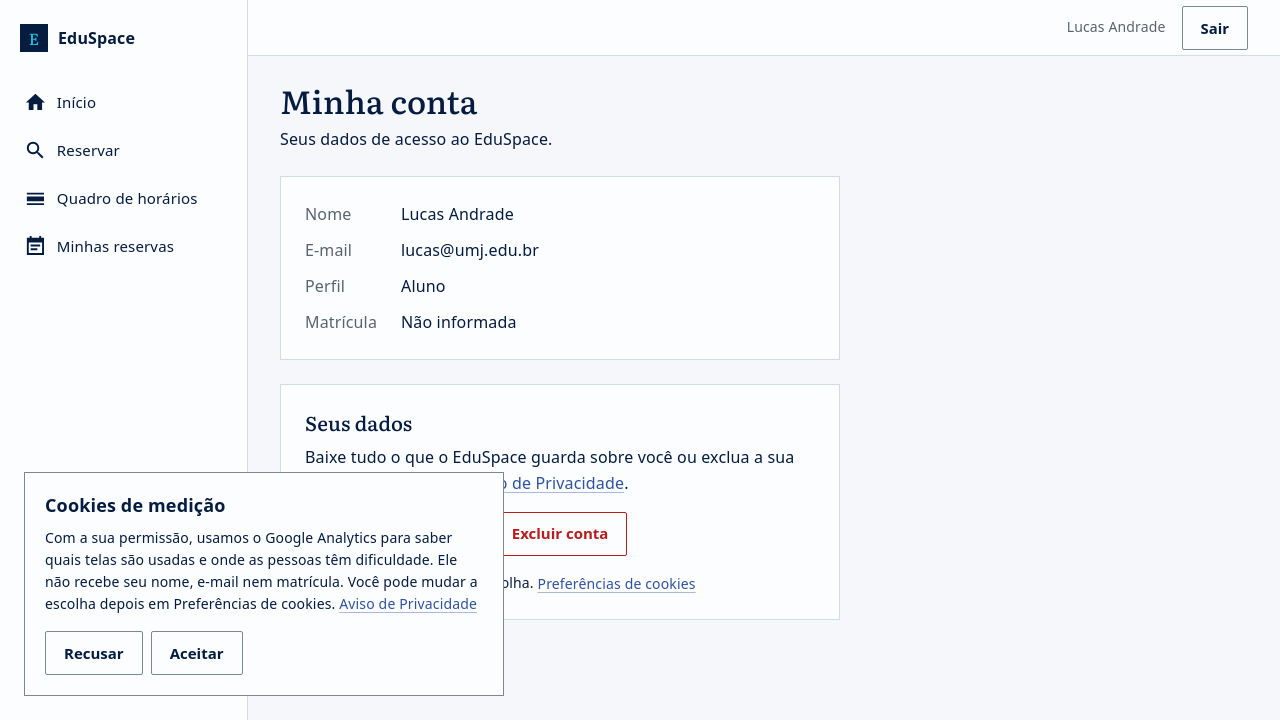
it: my data › marks a wrong password when deleting the account
Step 1. Click the button "Excluir conta" → (560, 534), box [493, 512, 627, 556]
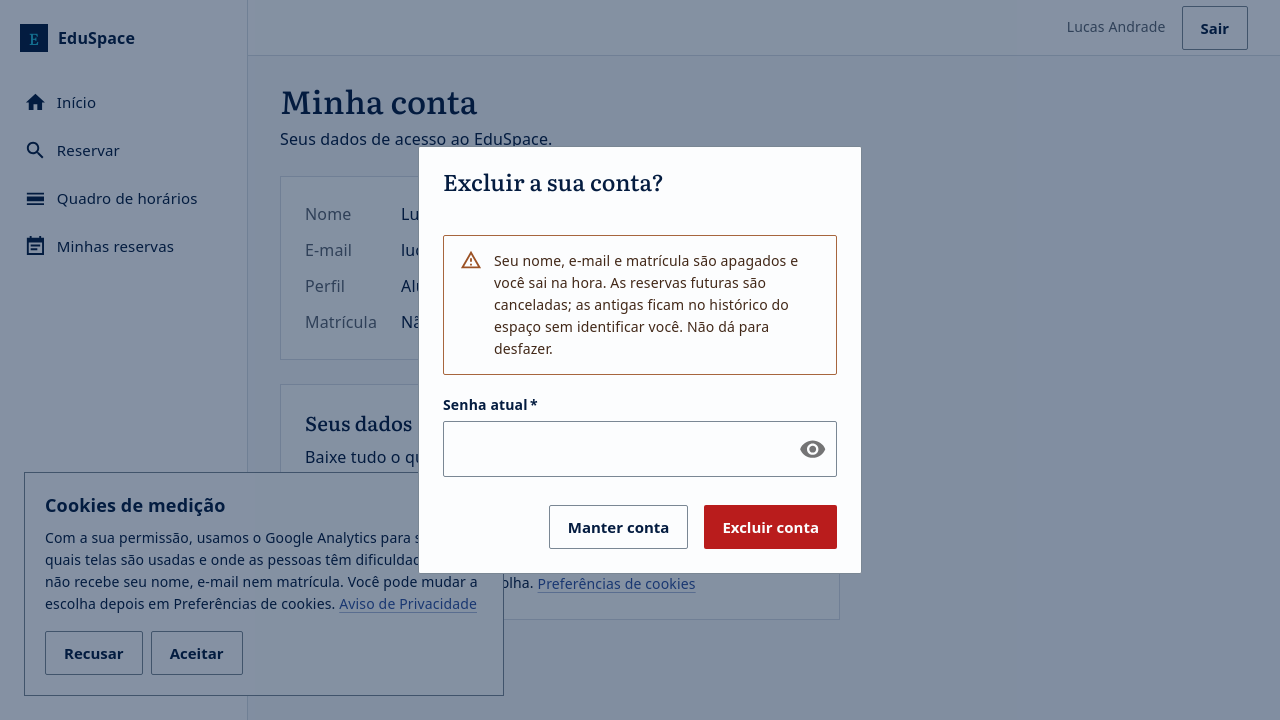
Step 2. Type "Errada123" into the password field labelled "Senha atual *" → (613, 449), box [443, 421, 783, 477]
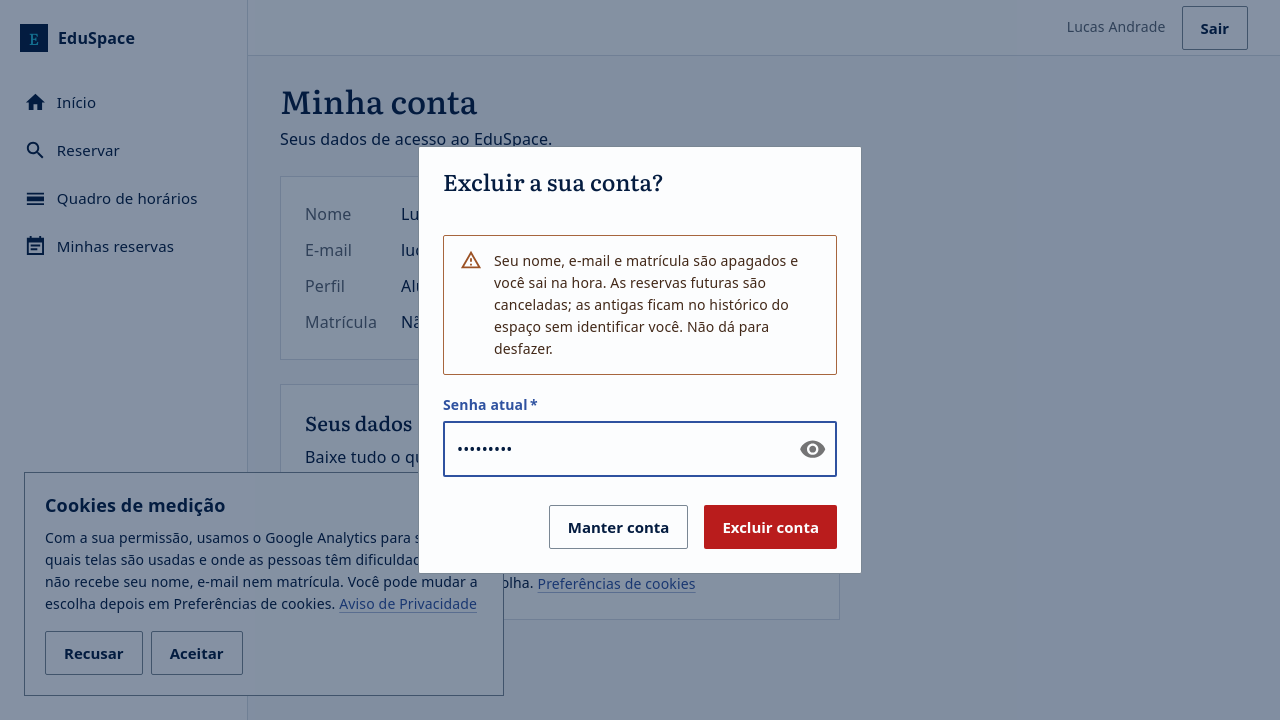
Step 3. Click the button "Excluir conta" → (771, 527), box [704, 505, 837, 549]
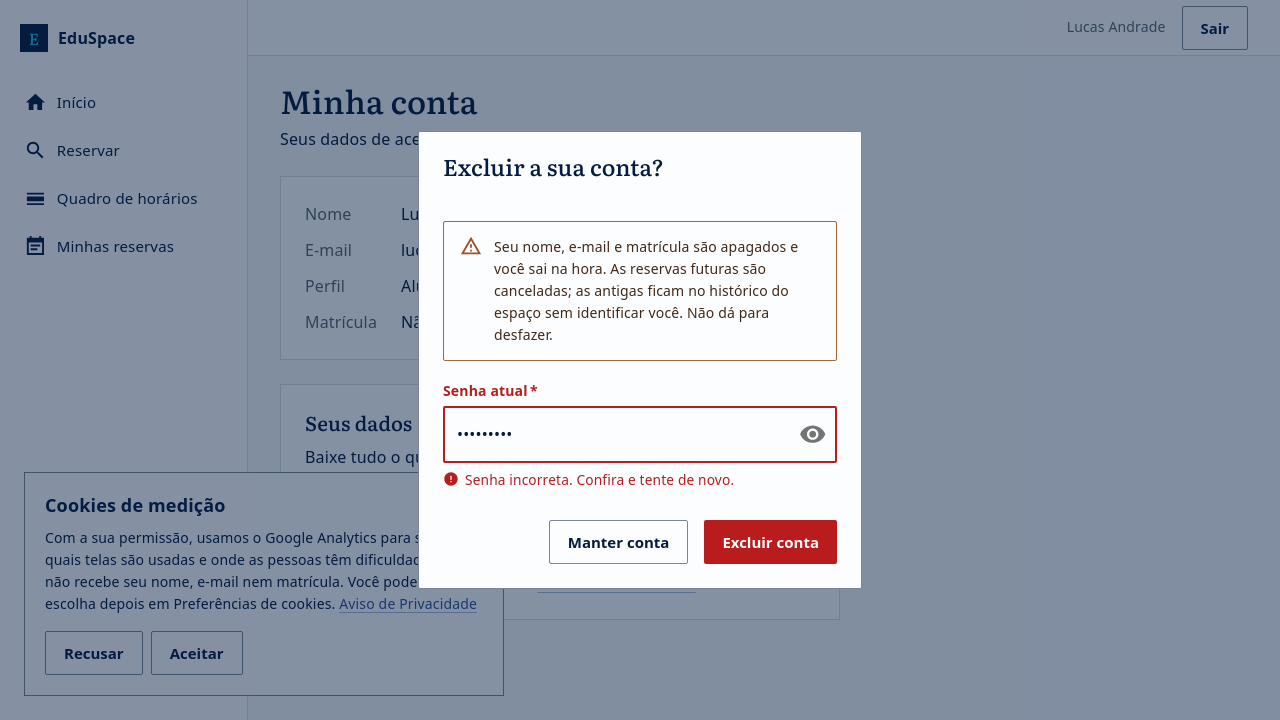
Now the text "Senha incorreta. Confira e tente de novo." is shown, box [443, 470, 734, 489]
